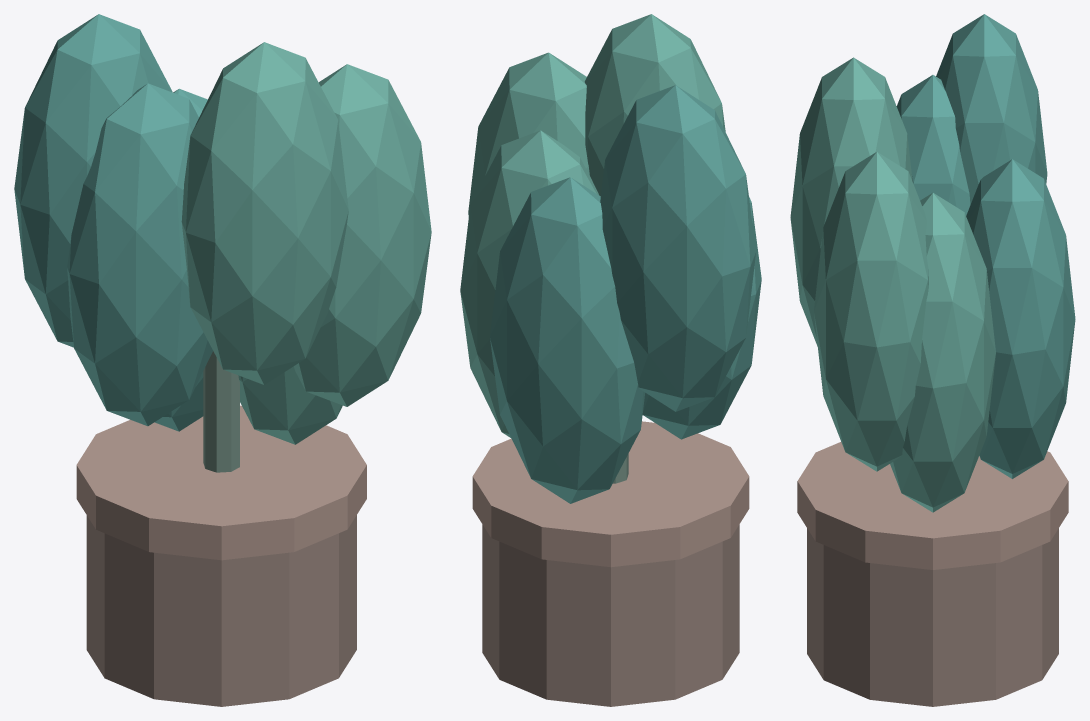
File: botanical_planter.glb
3 renders of one model, left to right at view 1: azimuth 30°, elevation 25°; view 2: azimuth 150°, elevation 25°; view 3: azimuth 270°, elevation 25°, orthographic. The views are drawn at different scales.
Parts seen in each view (by area): view 1: world; view 2: world; view 3: world.
Part boxes in pixels (x1,y1,x2,y2): world: [14, 14, 431, 706]; world: [460, 14, 761, 706]; world: [790, 14, 1075, 706].
Bounding box in the file's own units: 0.8018 × 1.41 × 0.61.
